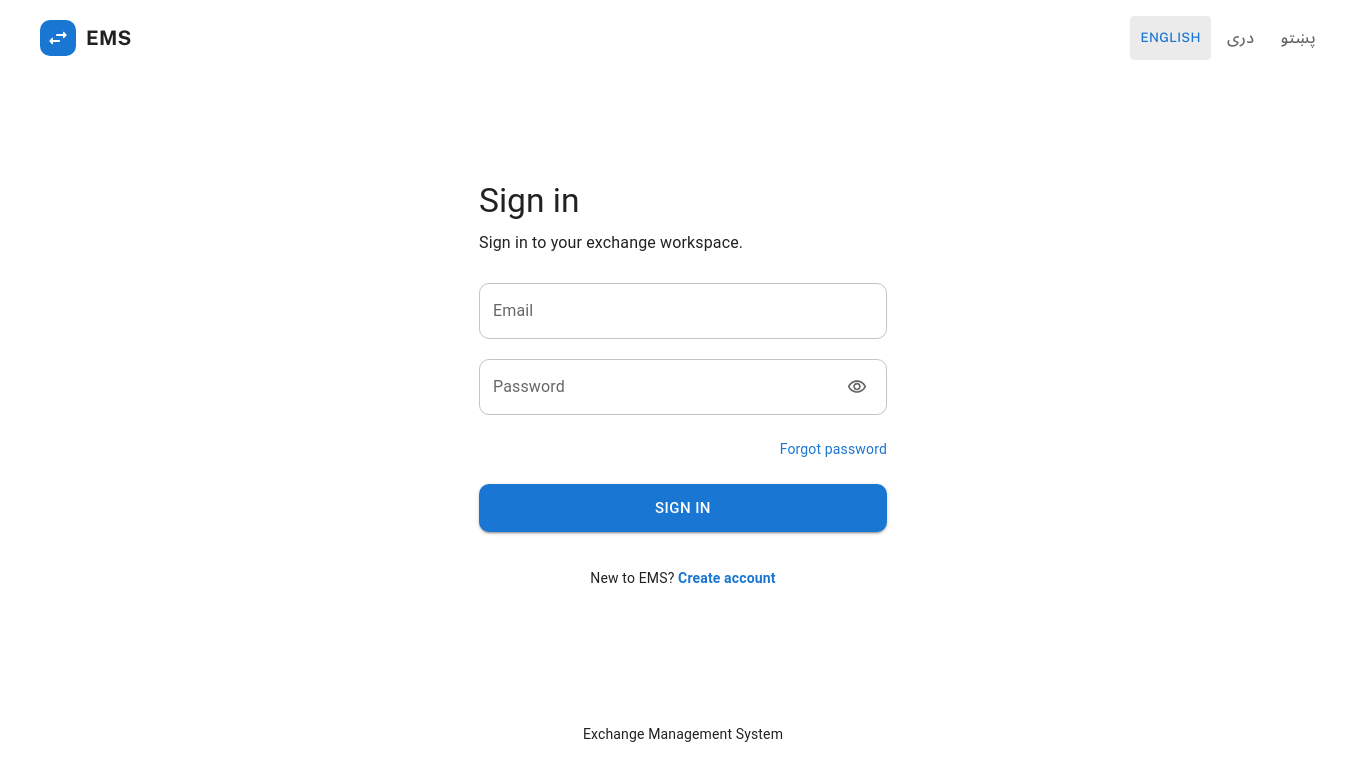
it: rejected challenge returns to login without refreshing or granting a session
Type "user@example.com" into the field labelled "Email". click: {"x": 683, "y": 311}
box: [479, 283, 887, 339]
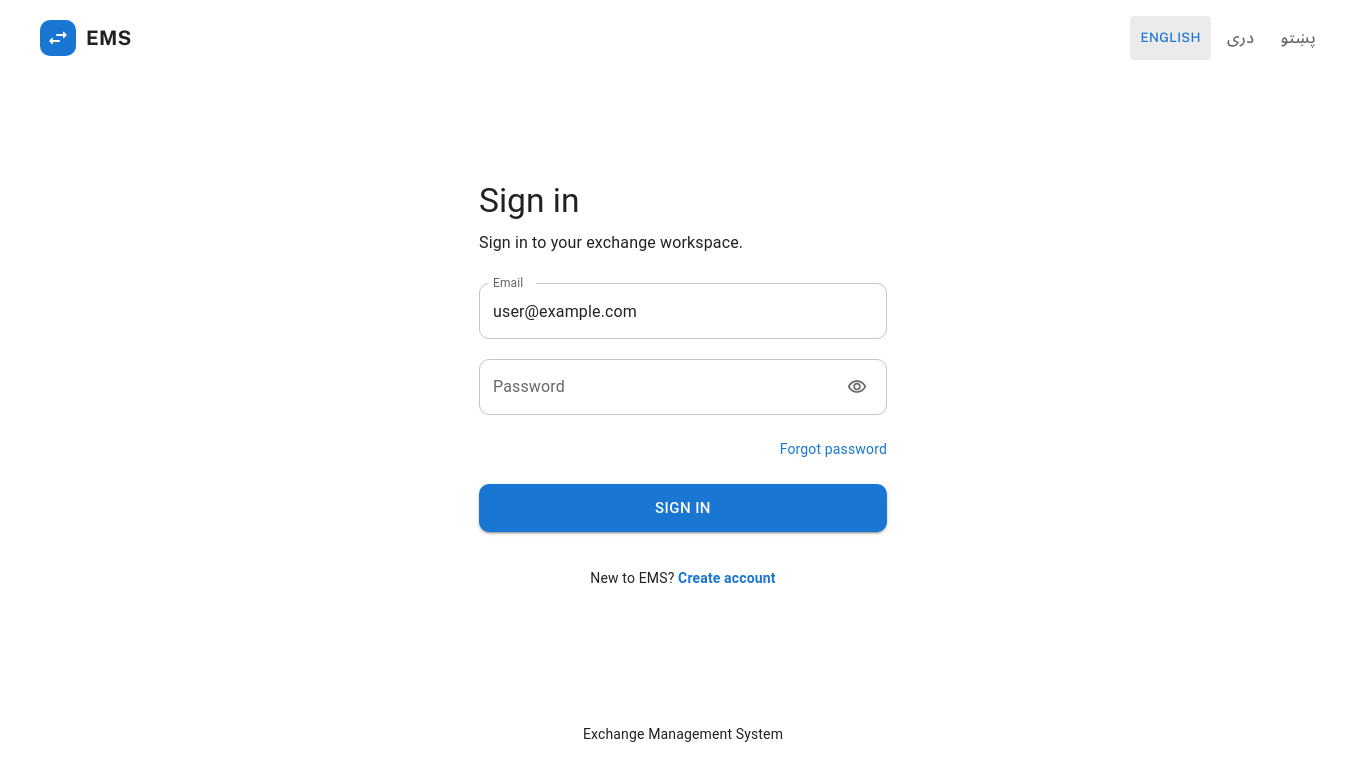
Type "password123" into the password field labelled "Password". click: {"x": 653, "y": 387}
box: [479, 359, 827, 415]
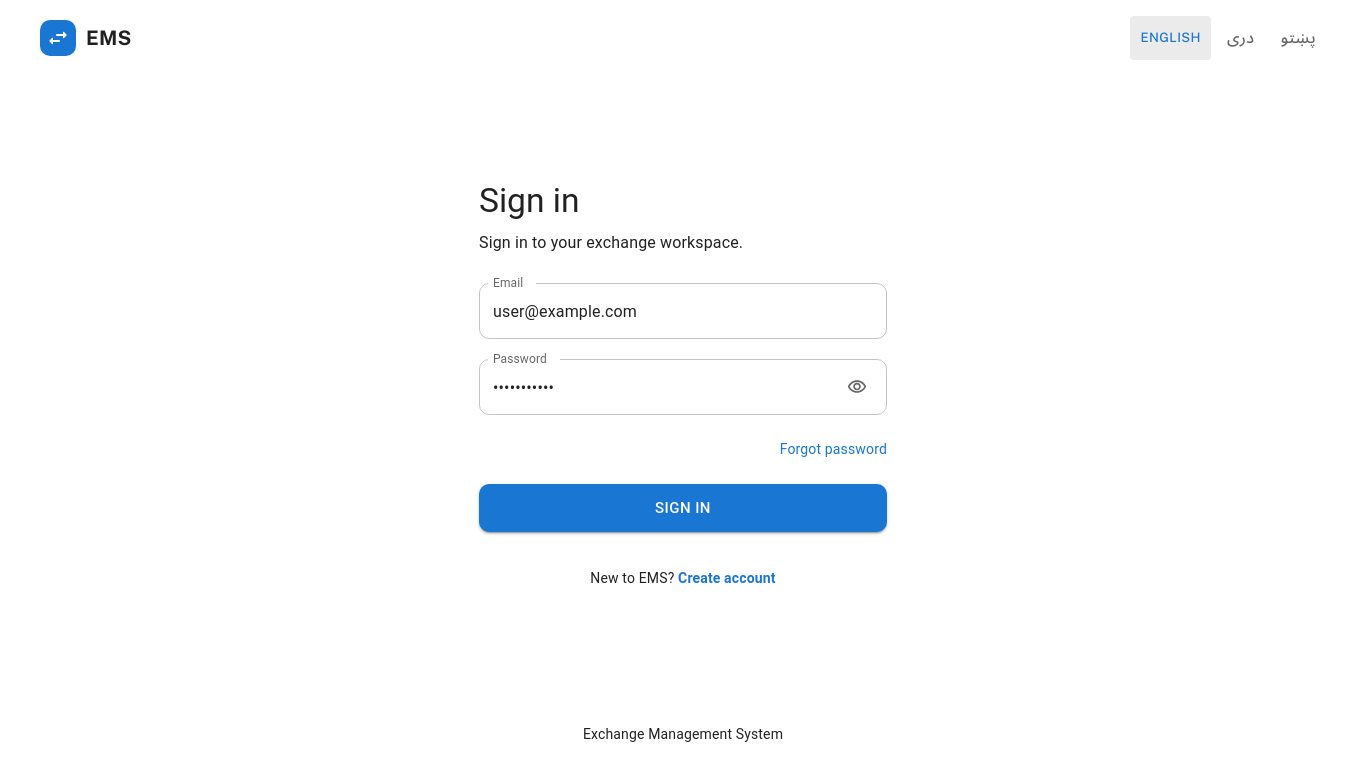
Click the button "Sign in". click: {"x": 683, "y": 508}
box: [479, 484, 887, 532]
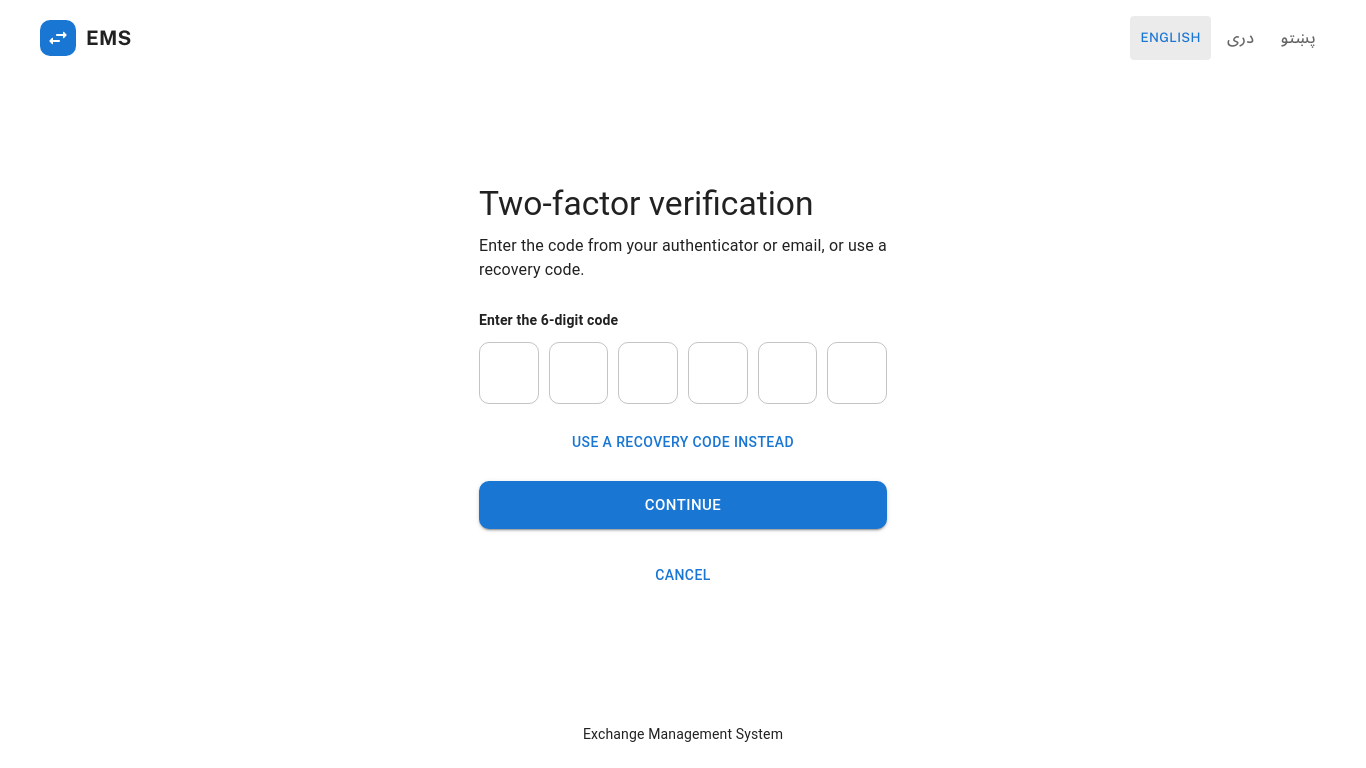
Now the field named "Verification or recovery code" is shown
Type "123456" into the field named "Verification or recovery code". click: {"x": 509, "y": 373}
box: [479, 340, 539, 407]
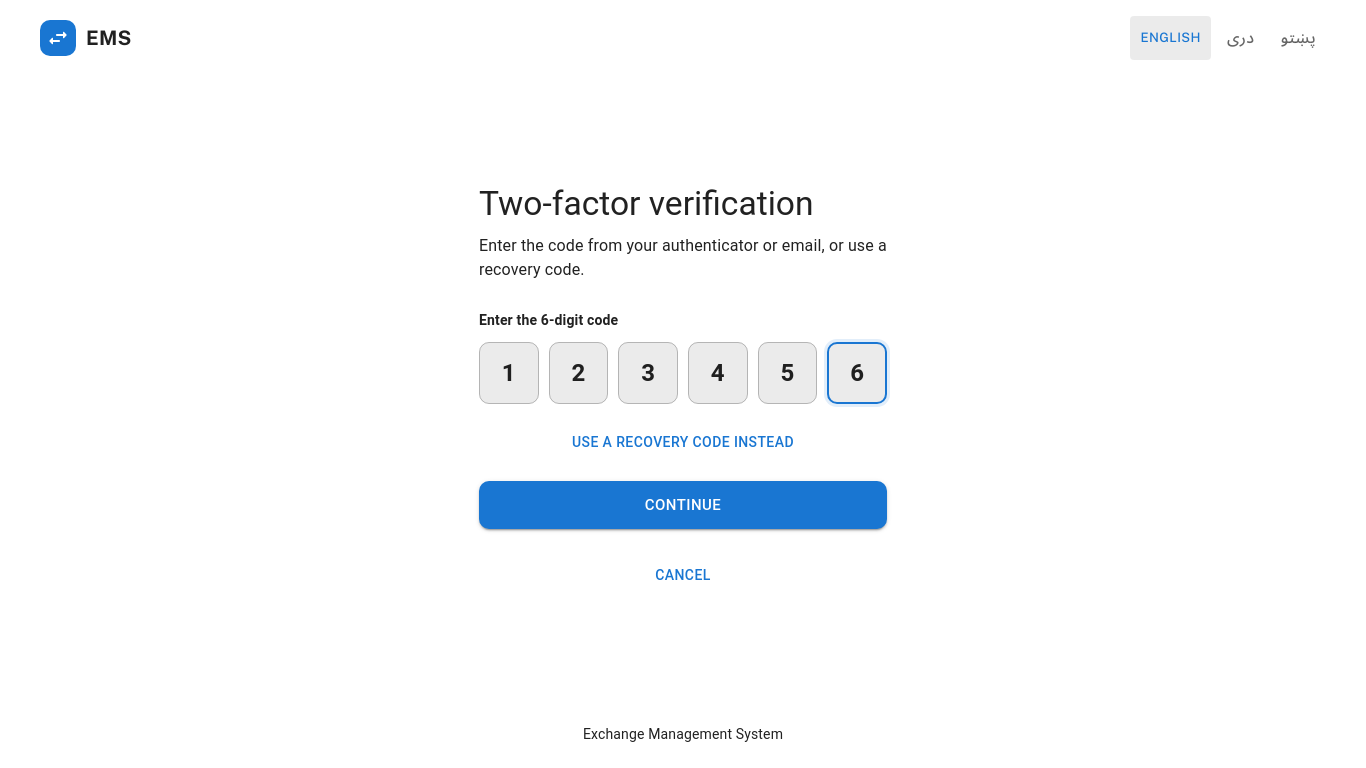
Click the button "Continue". click: {"x": 683, "y": 505}
box: [479, 481, 887, 529]
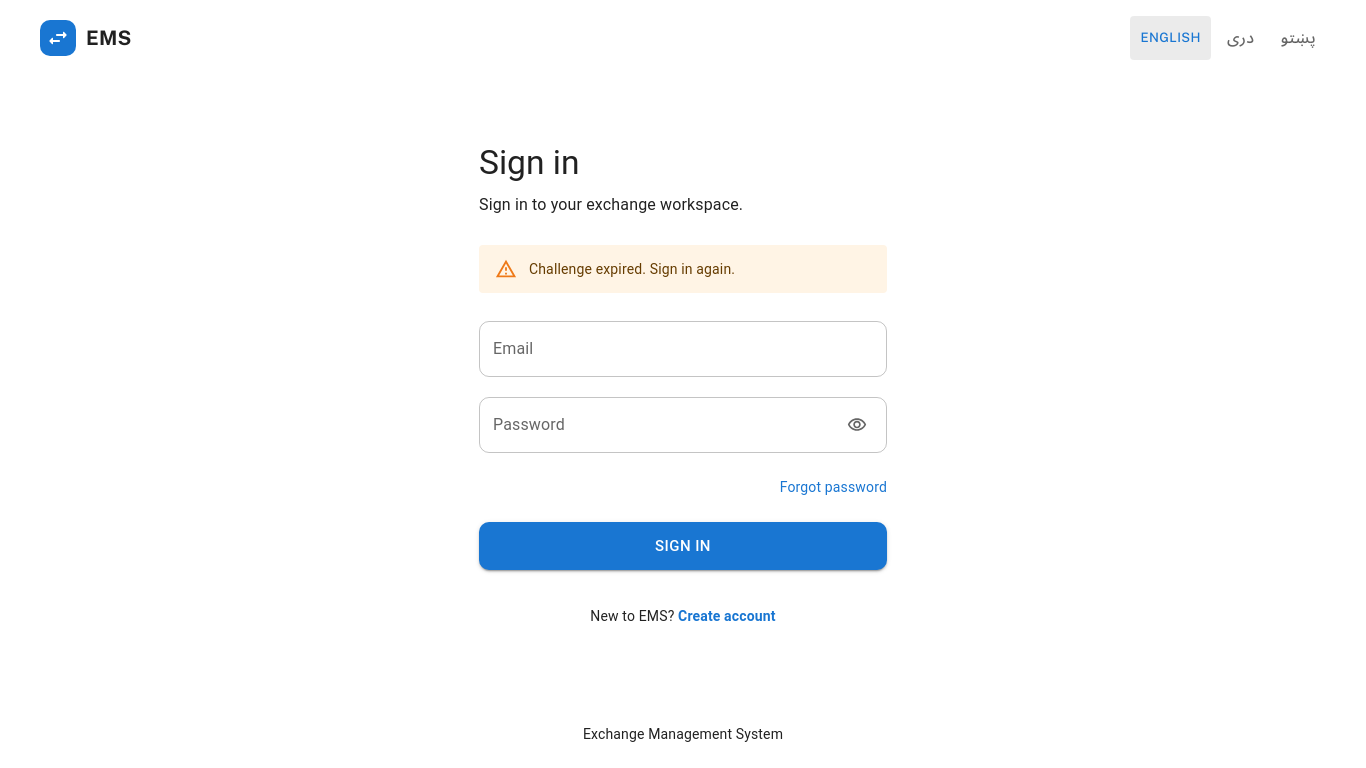
Now the text "Challenge expired. Sign in again." is shown, box [529, 261, 735, 277]
